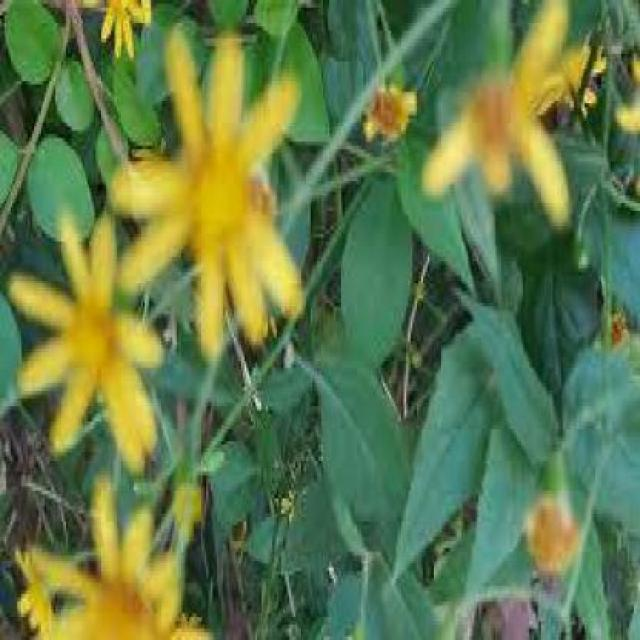flower: (114, 50, 301, 361), (5, 226, 197, 483), (425, 41, 584, 234)
